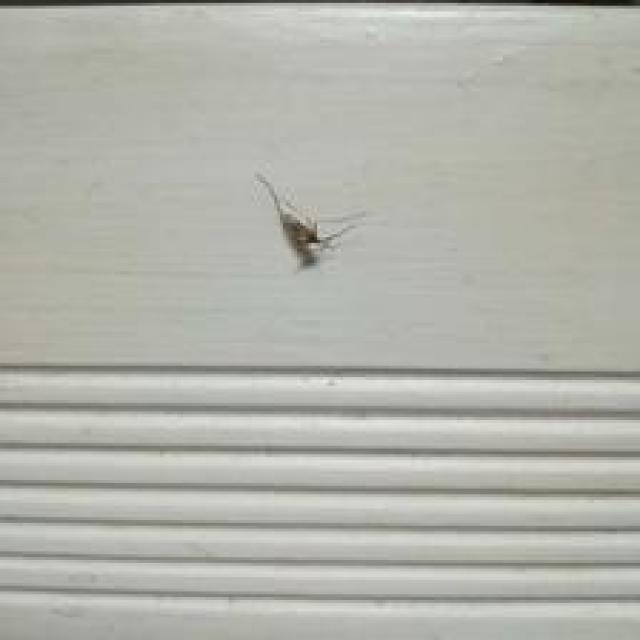Culex: (253, 170, 361, 270)
